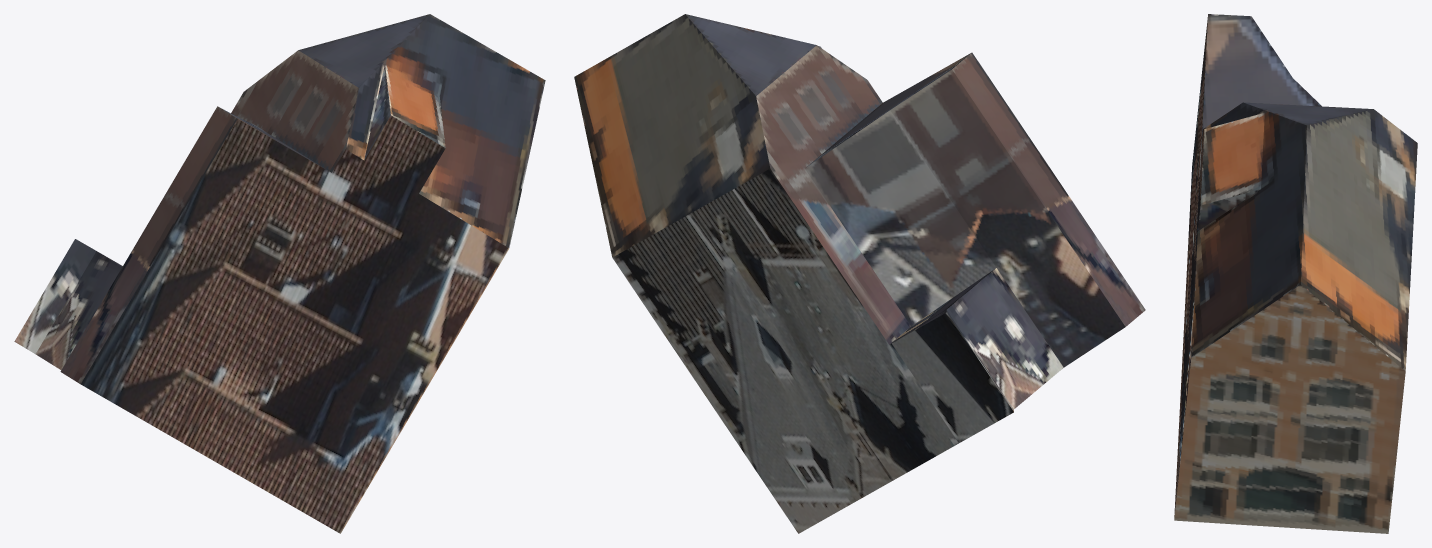
3 renders of one model, left to right at view 1: azimuth 30°, elevation 25°; view 2: azimuth 150°, elevation 25°; view 3: azimuth 270°, elevation 25°, orthographic. The views are drawn at different scales.
Visible parts, largest first — view 1: BAG_0599100000760363 (×4); view 2: BAG_0599100000760363 (×5); view 3: BAG_0599100000760363 (×3).
Boxes of the visible parts, box(x1,y1,x2,y2) form: BAG_0599100000760363 (×4): box(14, 14, 545, 533); BAG_0599100000760363 (×5): box(574, 14, 1145, 533); BAG_0599100000760363 (×3): box(1174, 14, 1417, 533).
Size of the model in its own units: 23.53 by 19.64 by 8.89.
Materials: 1 (1 with a texture image).
